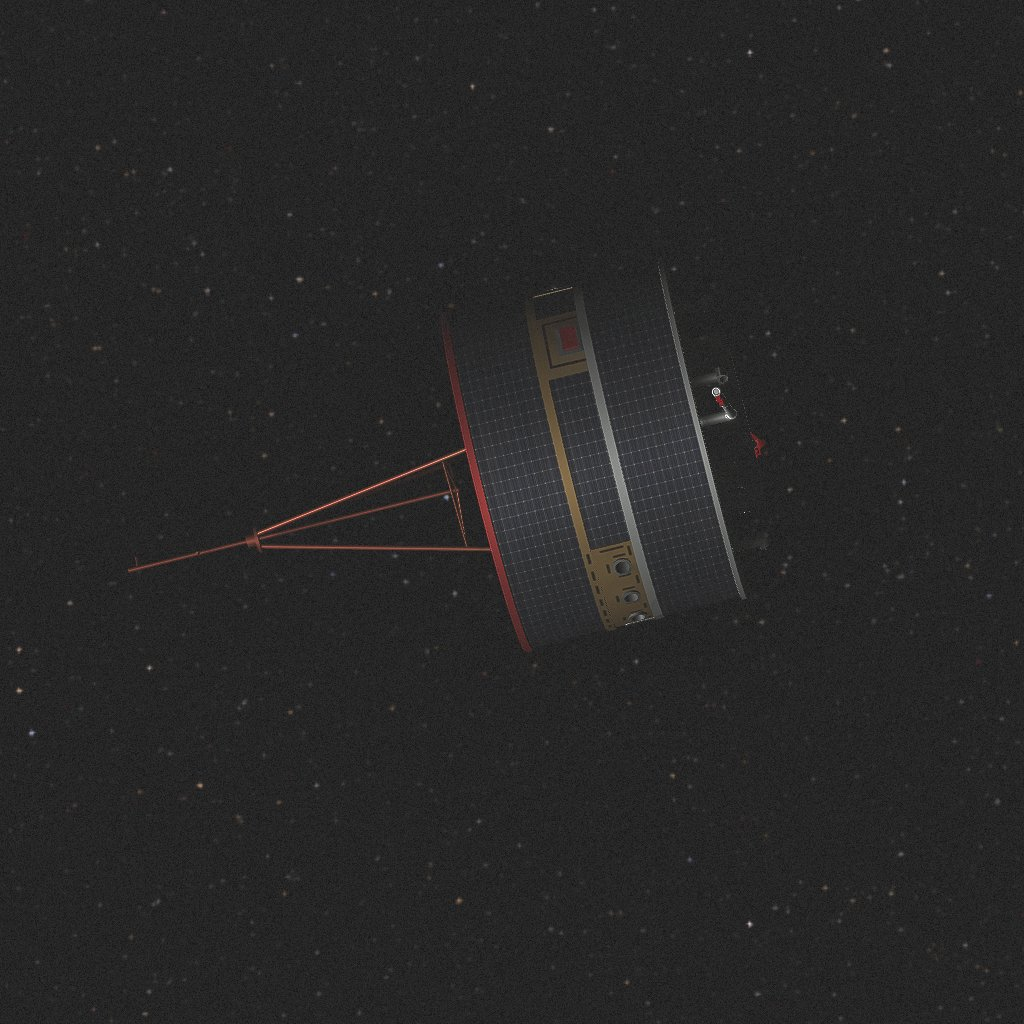double_star: (144, 270, 759, 647)
